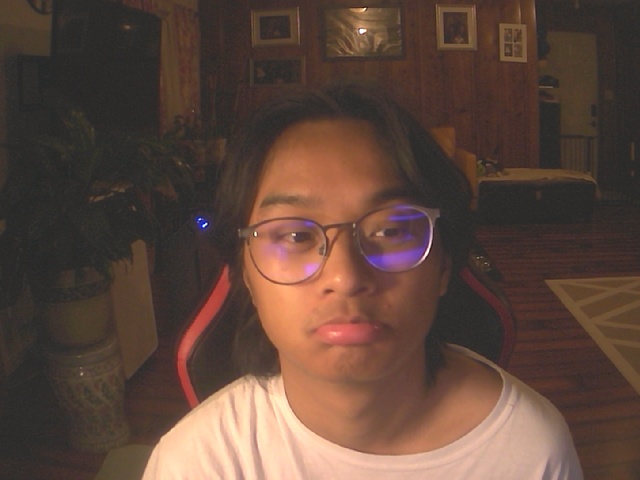sad: (210, 79, 478, 380)
